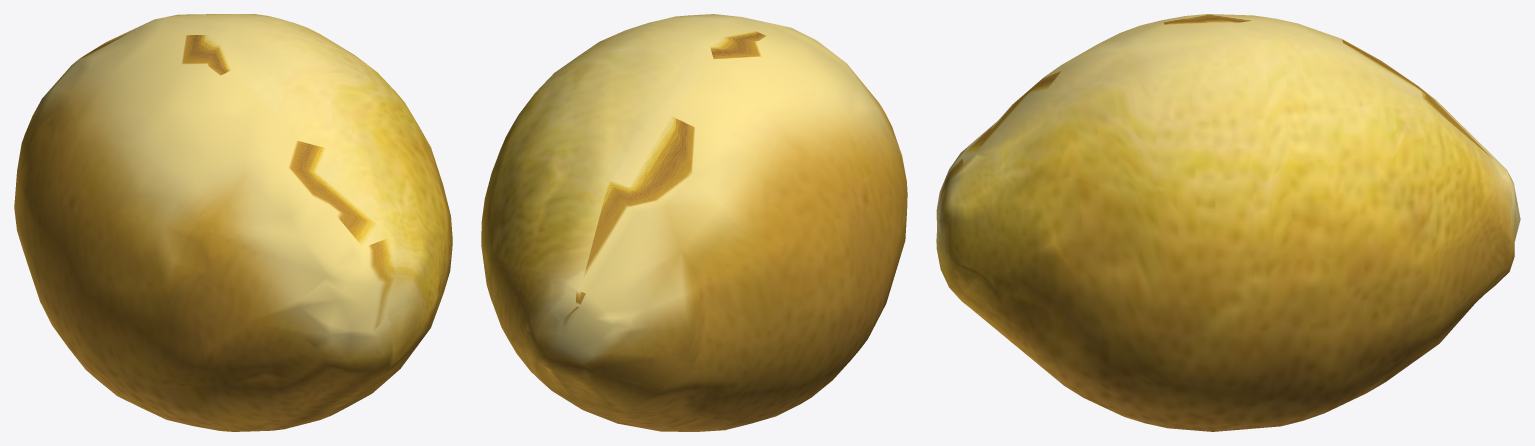
File: citroen.obj
The picture shows the model from 3 angles, left to right: view 1: azimuth 30°, elevation 25°; view 2: azimuth 150°, elevation 25°; view 3: azimuth 270°, elevation 25°; orthographic projection. The views are drawn at different scales.
Visible parts, largest first — view 1: Lemon_Whole; view 2: Lemon_Whole; view 3: Lemon_Whole.
Boxes of the visible parts, bbox=[...] form: Lemon_Whole: bbox=[14, 14, 452, 431]; Lemon_Whole: bbox=[481, 14, 907, 431]; Lemon_Whole: bbox=[936, 14, 1520, 431].
Bounding box in the file's own units: 0.9171 × 0.9295 × 1.28.
Materials: 1 (1 with a texture image).
